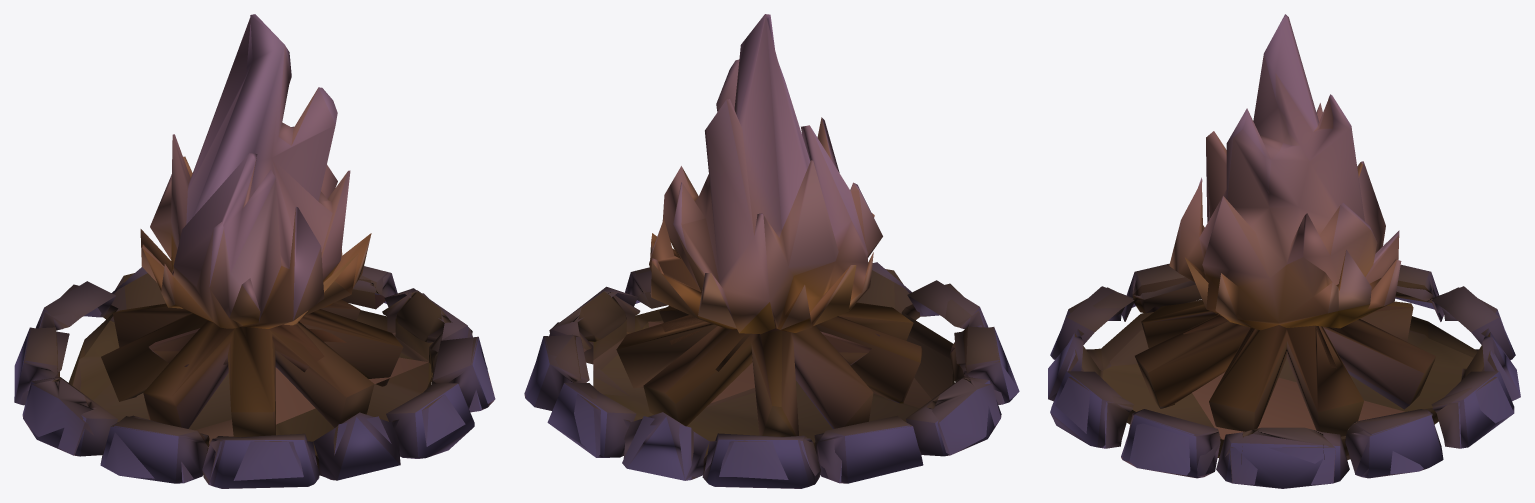
File: model.progressive.glb
The picture shows the model from 3 angles, left to right: view 1: azimuth 30°, elevation 25°; view 2: azimuth 150°, elevation 25°; view 3: azimuth 270°, elevation 25°; orthographic projection.
Parts seen in each view (by area): view 1: material; view 2: material; view 3: material.
Part boxes in pixels (bbox=[...]): material: bbox=[14, 14, 495, 488]; material: bbox=[524, 14, 1019, 488]; material: bbox=[1048, 14, 1520, 488].
Bounding box in the file's own units: 1.9 × 1.61 × 1.81.
Materials: 1 (1 with a texture image).
